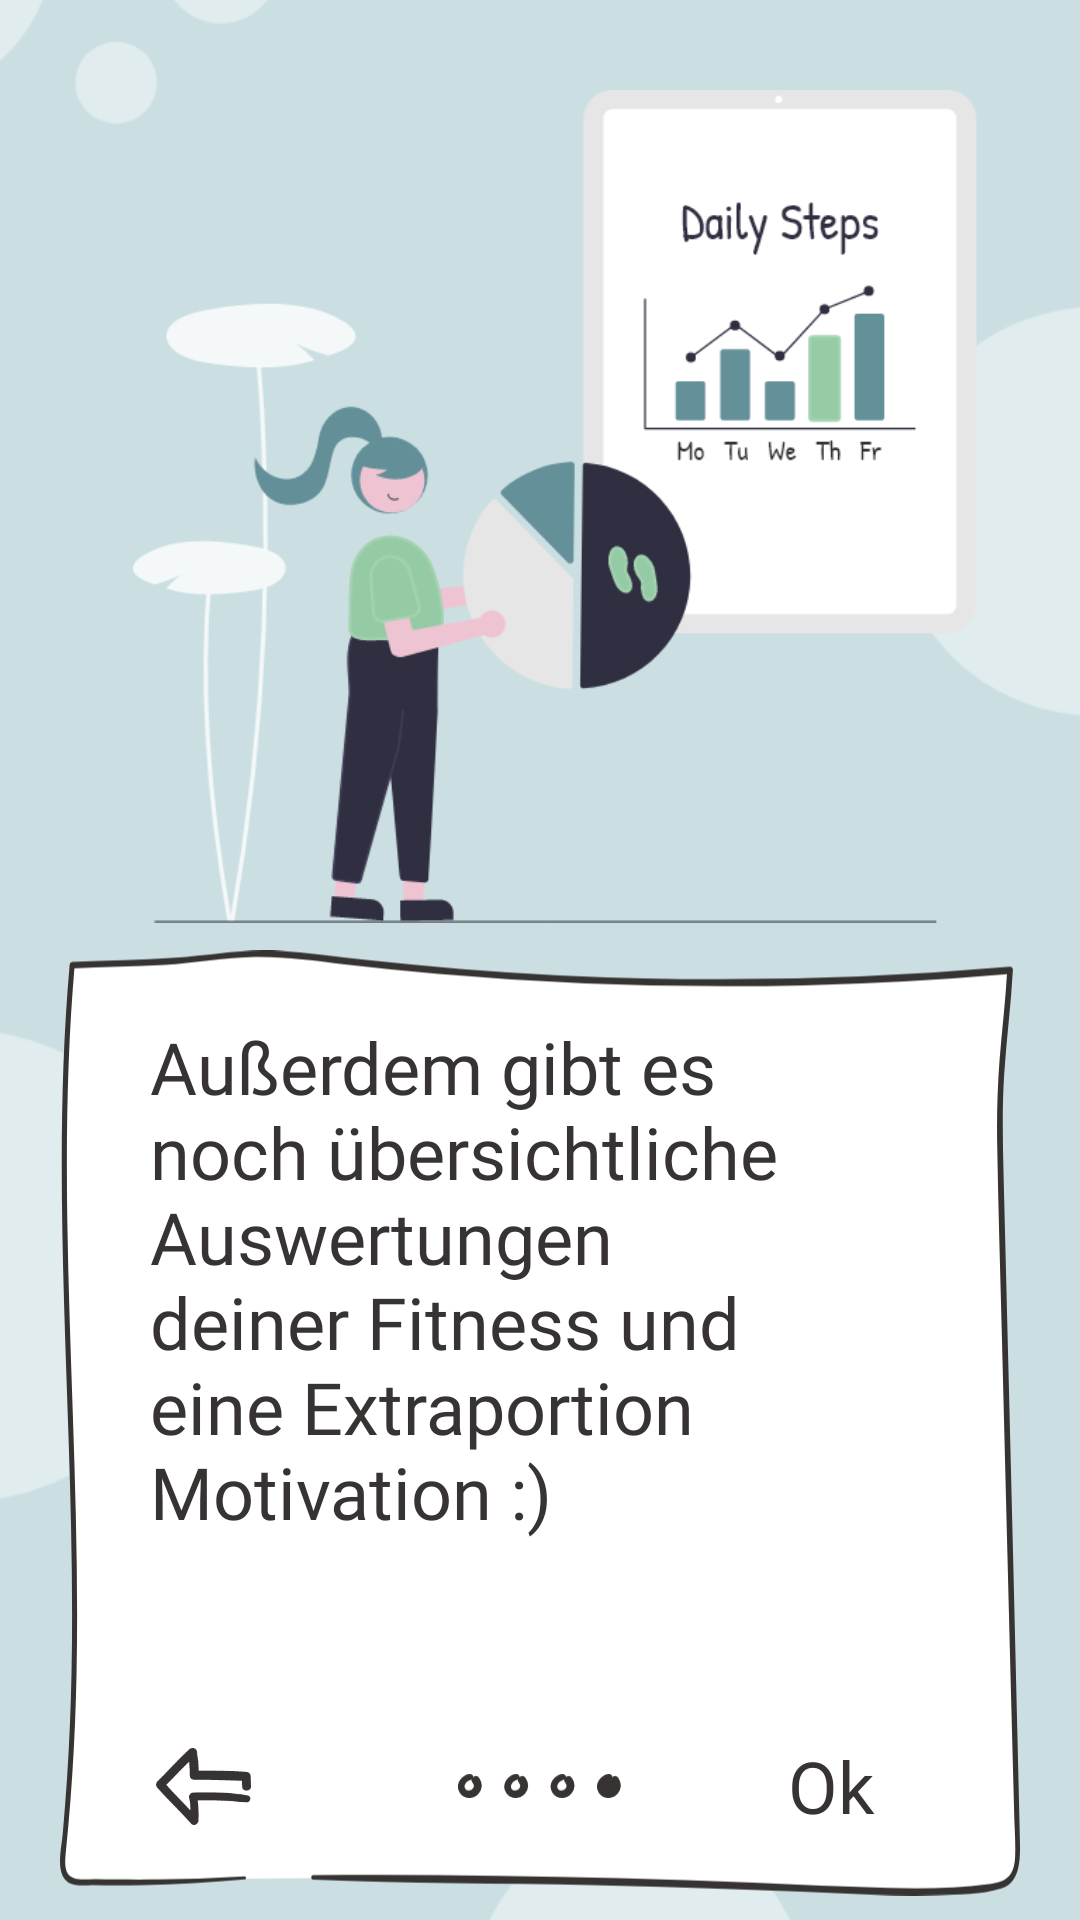

Where icons sit on this 1080×1920 app screen, as (x1, y1, x2, y2):
arrow: (156, 1748, 251, 1825)
